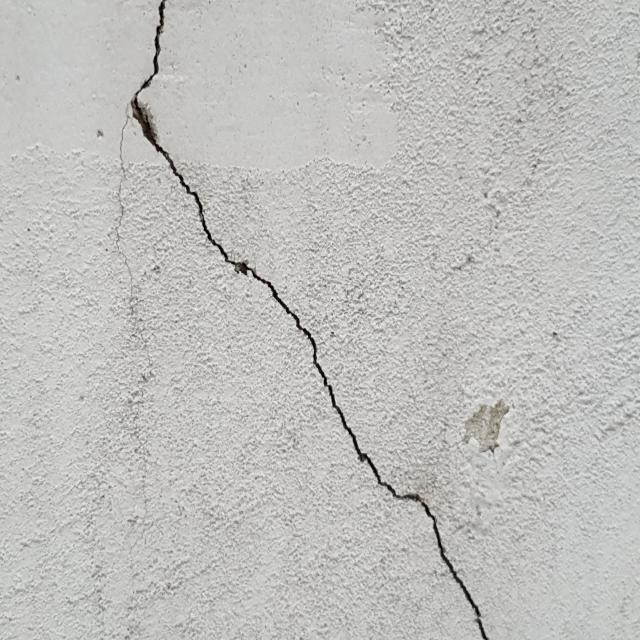SurfaceCrack: (108, 154, 516, 640)
